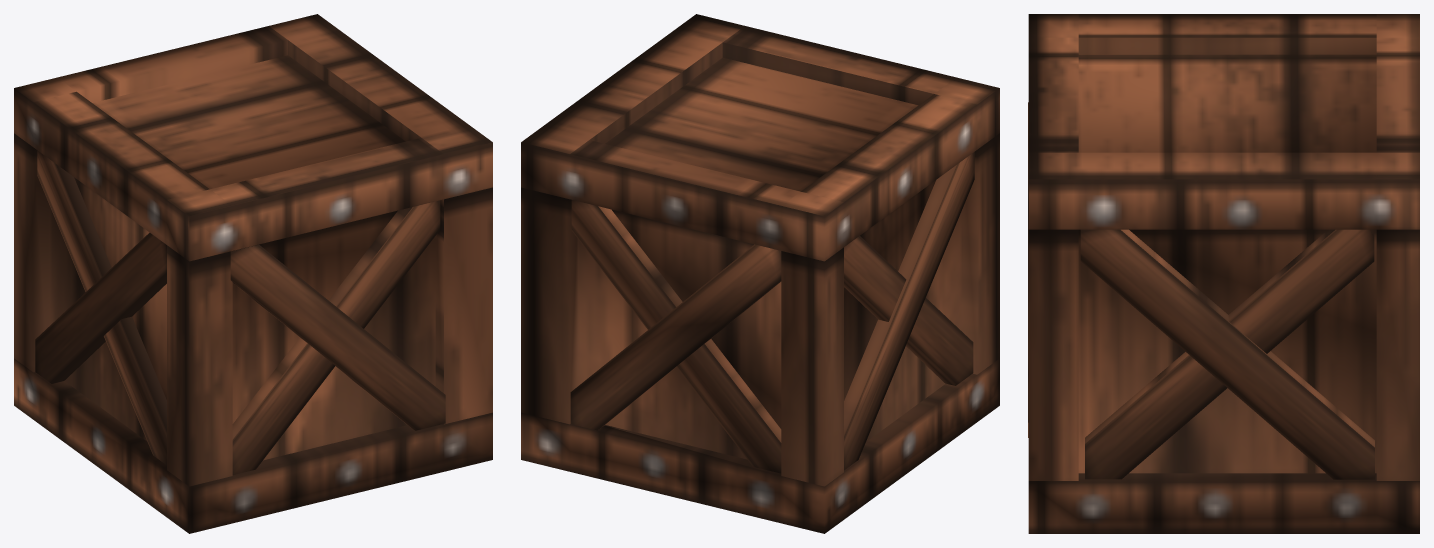
Rendered from box_big_v1.glb.
The picture shows the model from 3 angles, left to right: view 1: azimuth 30°, elevation 25°; view 2: azimuth 150°, elevation 25°; view 3: azimuth 270°, elevation 25°; orthographic projection. The views are drawn at different scales.
Visible parts, largest first — view 1: Cube.001; view 2: Cube.001; view 3: Cube.001.
Part boxes in pixels (box(x1,y1,x2,y2)): Cube.001: box(14, 14, 492, 533); Cube.001: box(521, 14, 999, 533); Cube.001: box(1028, 14, 1419, 533).
Size of the model in its own units: 3.83 by 3.83 by 3.84.
1 material, 1 textured.
